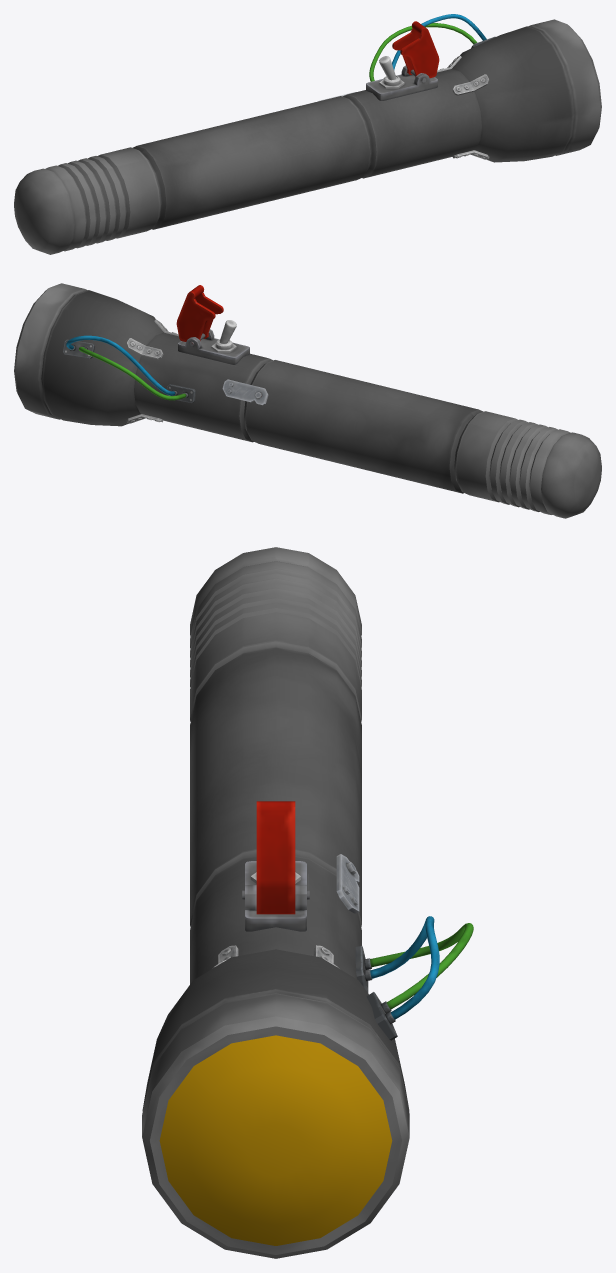
The picture shows the model from 3 angles, top to bottom: view 1: azimuth 30°, elevation 25°; view 2: azimuth 150°, elevation 25°; view 3: azimuth 270°, elevation 25°; orthographic projection. The views are drawn at different scales.
Visible parts, largest first — view 1: Cylinder.003, on switch.001, on switch, Cylinder.002, BezierCurve.001, on switch.002, BezierCurve; view 2: Cylinder.003, on switch.001, on switch, Cylinder.001, Cube, Cylinder.002, BezierCurve, BezierCurve.001, on switch.002; view 3: Cylinder.003, glass, on switch.001, on switch, BezierCurve, BezierCurve.001, Cube, Cylinder.001.
Boxes of the visible parts, <box> form: Cylinder.003: <box>14,19,601,254</box>; on switch.001: <box>392,21,439,78</box>; on switch: <box>366,65,437,100</box>; Cylinder.002: <box>437,55,489,159</box>; BezierCurve.001: <box>369,23,476,81</box>; on switch.002: <box>379,56,404,88</box>; BezierCurve: <box>392,14,486,70</box>; Cylinder.003: <box>14,283,601,518</box>; on switch.001: <box>176,285,223,341</box>; on switch: <box>178,329,249,364</box>; Cylinder.001: <box>222,379,268,405</box>; Cube: <box>63,339,195,402</box>; Cylinder.002: <box>126,319,178,423</box>; BezierCurve: <box>66,335,175,395</box>; BezierCurve.001: <box>79,347,186,400</box>; on switch.002: <box>211,320,236,352</box>; Cylinder.003: <box>142,547,409,1258</box>; glass: <box>159,1035,392,1245</box>; on switch.001: <box>256,801,295,914</box>; on switch: <box>242,861,309,931</box>; BezierCurve: <box>370,916,439,1019</box>; BezierCurve.001: <box>370,923,473,1009</box>; Cube: <box>355,946,397,1040</box>; Cylinder.001: <box>336,854,359,913</box>.
Size of the model in its own units: 14.93 by 4.02 by 3.86.
2 materials, 1 textured.
